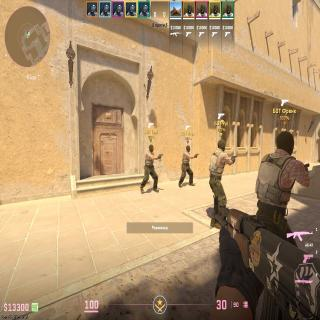T-Body: (254, 131, 300, 249), (209, 139, 227, 226), (145, 144, 155, 192), (182, 145, 190, 185)
T-Head: (276, 131, 294, 155), (218, 140, 225, 150), (149, 145, 154, 152), (186, 145, 190, 152)
